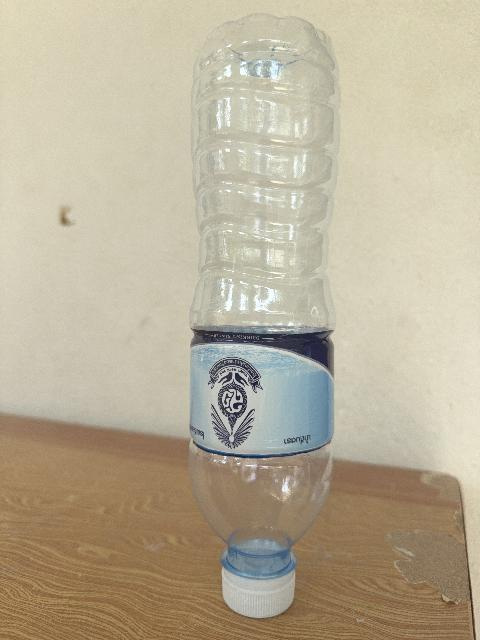bottle: (190, 15, 339, 617)
